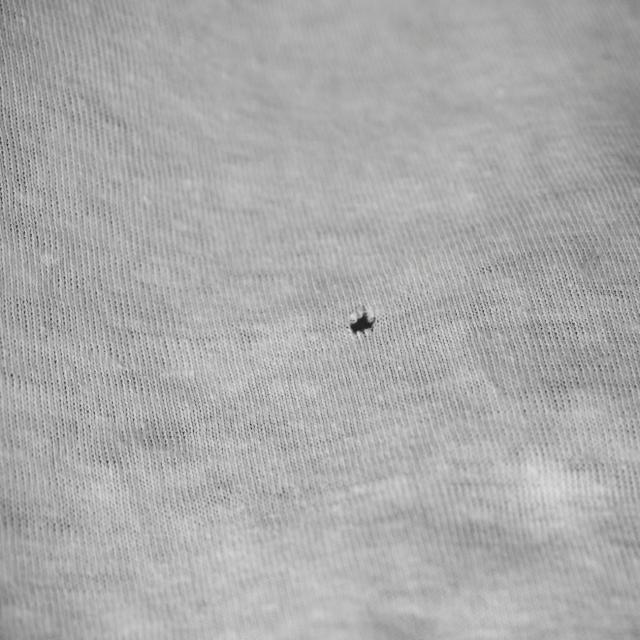Hole: (350, 305, 376, 335)
